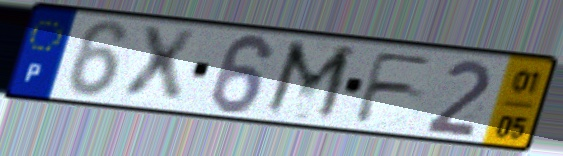2: (423, 56, 496, 140)
6: (61, 17, 134, 102), (207, 32, 277, 117)
F: (351, 49, 439, 126)
M: (259, 37, 360, 126)
X: (120, 24, 202, 106)
